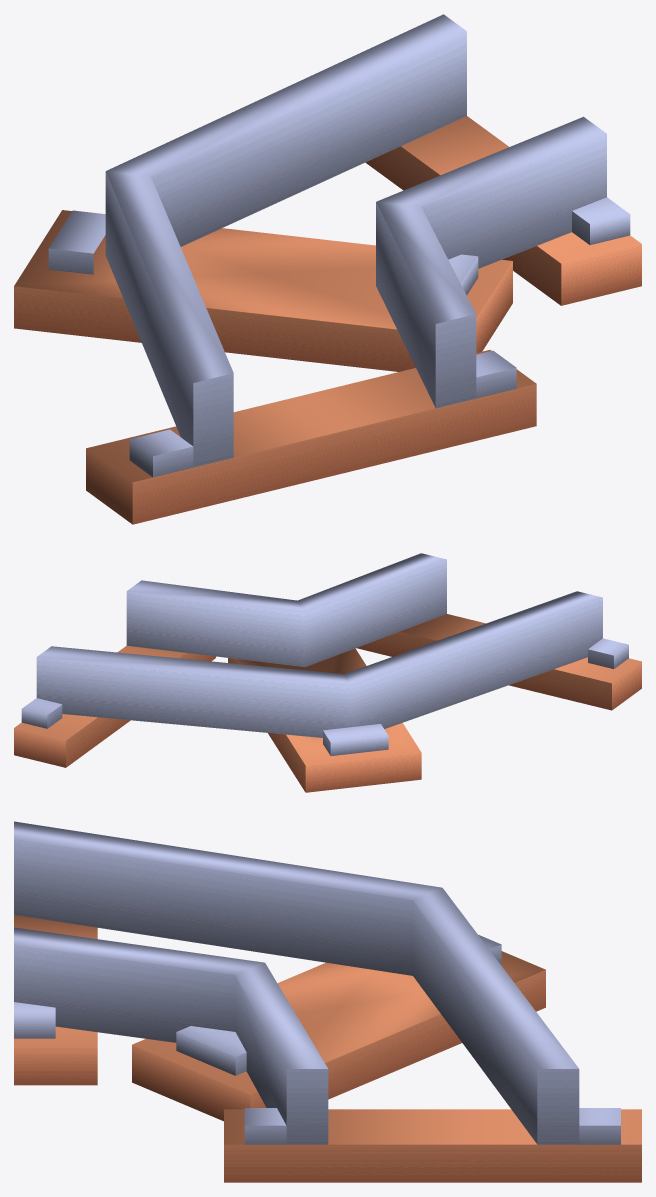
Rendered from track-corner.glb.
The picture shows the model from 3 angles, top to bottom: view 1: azimuth 30°, elevation 25°; view 2: azimuth 150°, elevation 25°; view 3: azimuth 270°, elevation 25°; orthographic projection. The views are drawn at different scales.
Parts seen in each view (by area): view 1: track-corner; view 2: track-corner; view 3: track-corner.
Boxes of the visible parts, bbox=[...] form: track-corner: bbox=[14, 14, 641, 524]; track-corner: bbox=[14, 553, 641, 792]; track-corner: bbox=[14, 821, 641, 1182].
Bounding box in the file's own units: 0.775 × 0.15 × 0.7509.
1 material, 1 textured.
